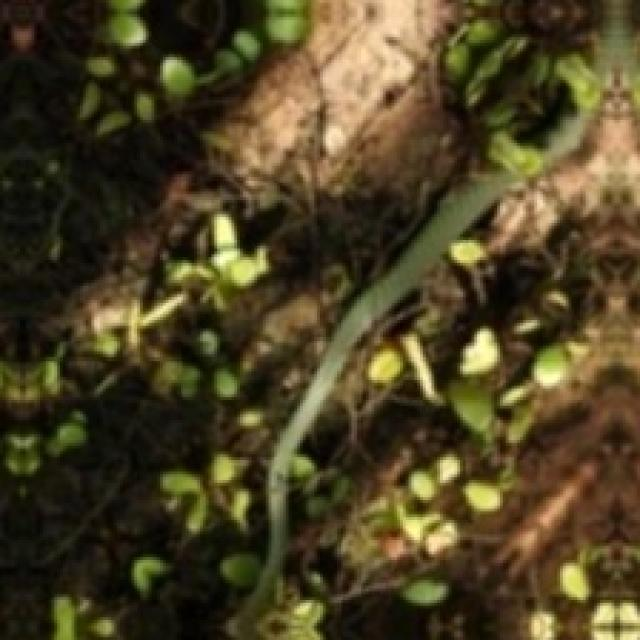paradise tree snake: (226, 0, 637, 637)
